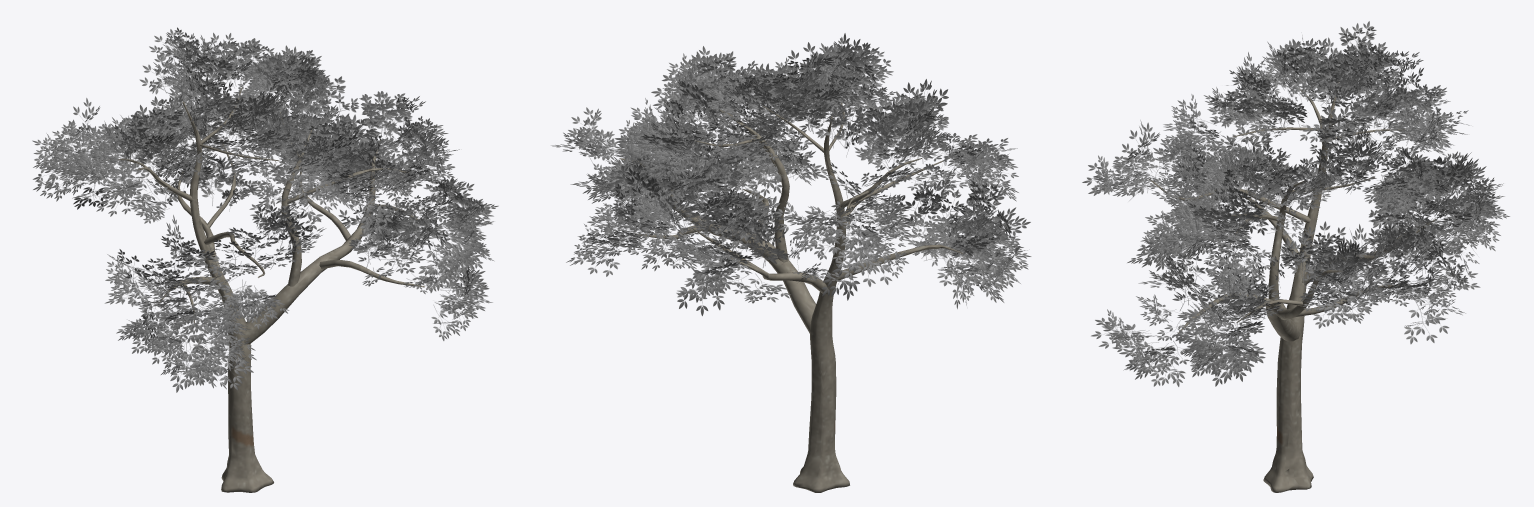
The model's file is RT_Mature_B_LOD3.glb.
3 views of the same model, side by side, from view 1: azimuth 30°, elevation 25°; view 2: azimuth 150°, elevation 25°; view 3: azimuth 270°, elevation 25° (orthographic). The views are drawn at different scales.
Visible parts, largest first — view 1: RT_Mature_B_LOD3_LeafCards, RT_Mature_B_LOD3_Body; view 2: RT_Mature_B_LOD3_LeafCards, RT_Mature_B_LOD3_Body; view 3: RT_Mature_B_LOD3_LeafCards, RT_Mature_B_LOD3_Body.
Boxes of the visible parts, left/top/right/bottom form: RT_Mature_B_LOD3_LeafCards: left=32, top=27, right=498, bottom=392; RT_Mature_B_LOD3_Body: left=102, top=87, right=425, bottom=492; RT_Mature_B_LOD3_LeafCards: left=551, top=33, right=1031, bottom=315; RT_Mature_B_LOD3_Body: left=619, top=100, right=963, bottom=492; RT_Mature_B_LOD3_LeafCards: left=1082, top=21, right=1509, bottom=386; RT_Mature_B_LOD3_Body: left=1148, top=82, right=1435, bottom=492.
Bounding box in the file's own units: 13.33 × 13.93 × 12.39.
Materials: 2 (2 with a texture image).
